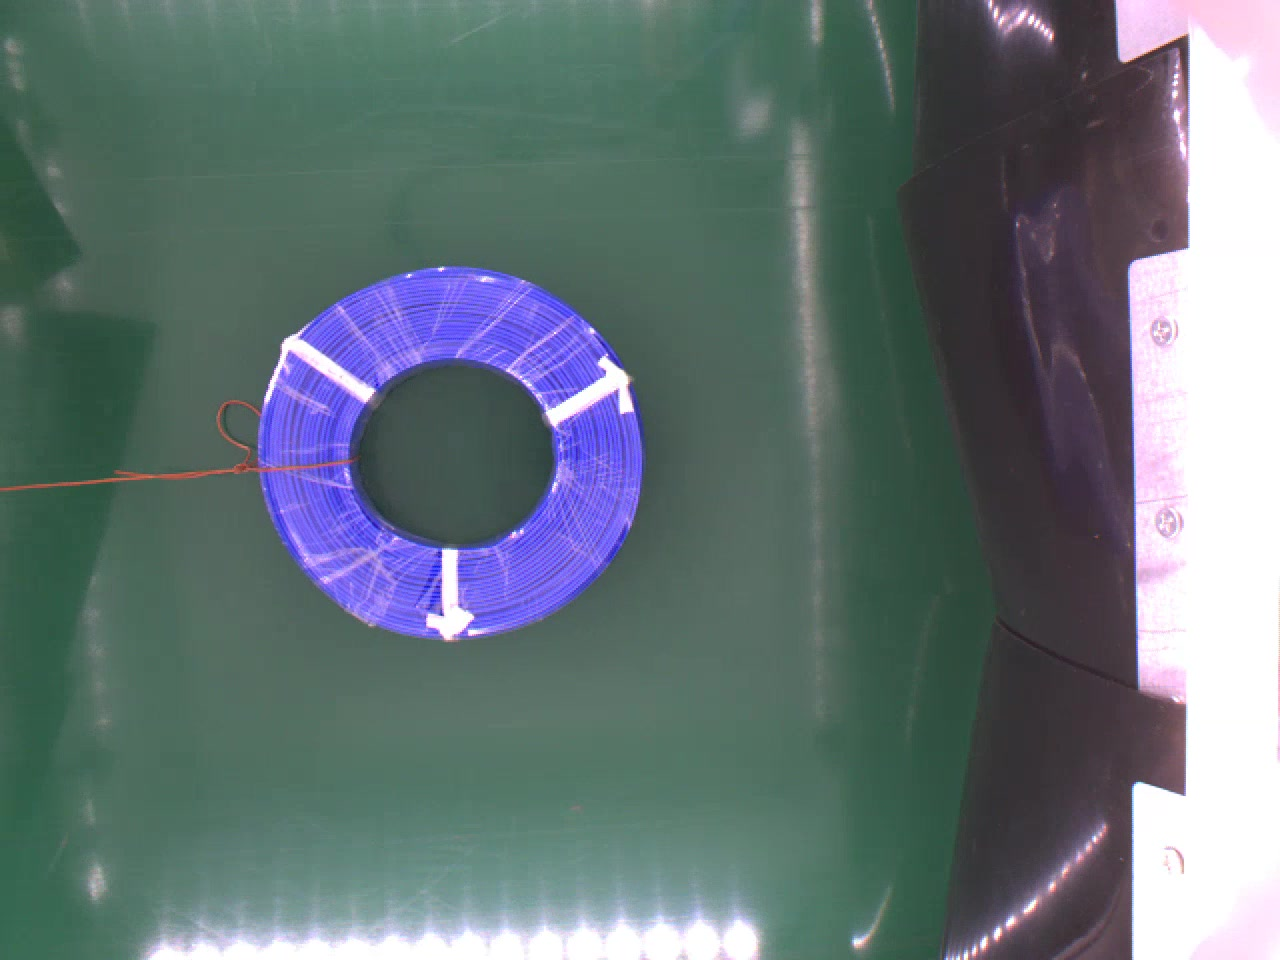blue: (252, 261, 647, 644)
